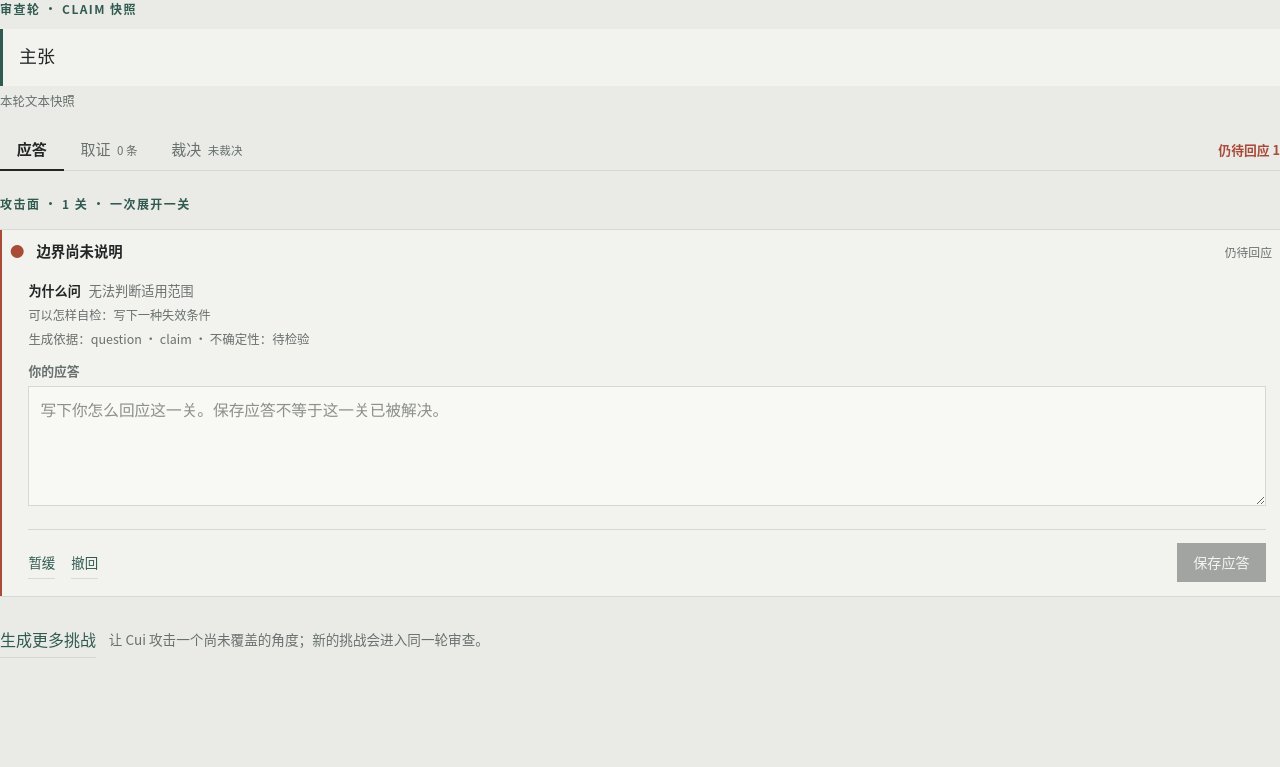
Test: ReviewRoundDesk review lifecycle › requires a revival condition for a circumstantial verdict
expect the text "边界尚未说明" is shown: met, box x1=36 y1=240 x2=123 y2=261
Click the tab "裁决 未裁决". click: point(207, 150)
box: x1=154 y1=128 x2=259 y2=171
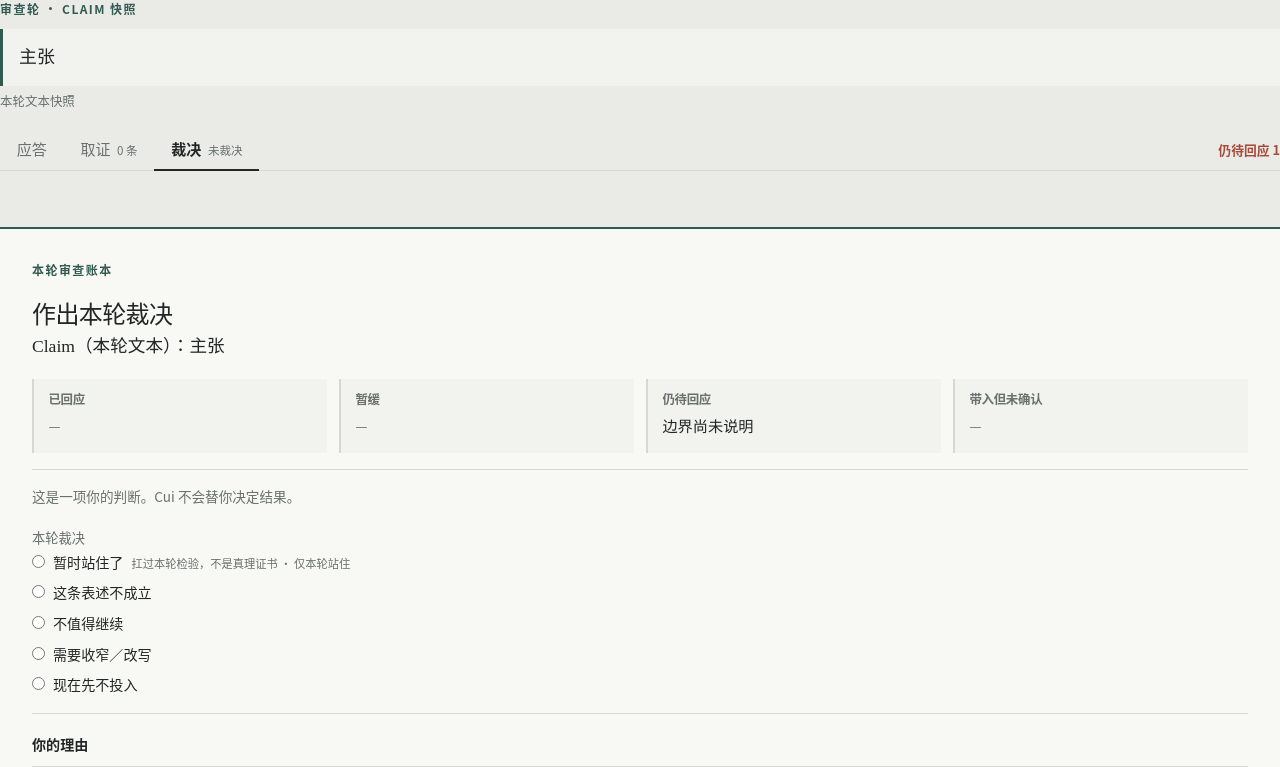
Click the radio button labelled "现在先不投入". click: point(38, 684)
box: x1=32 y1=677 x2=45 y2=690
(page scrolled)
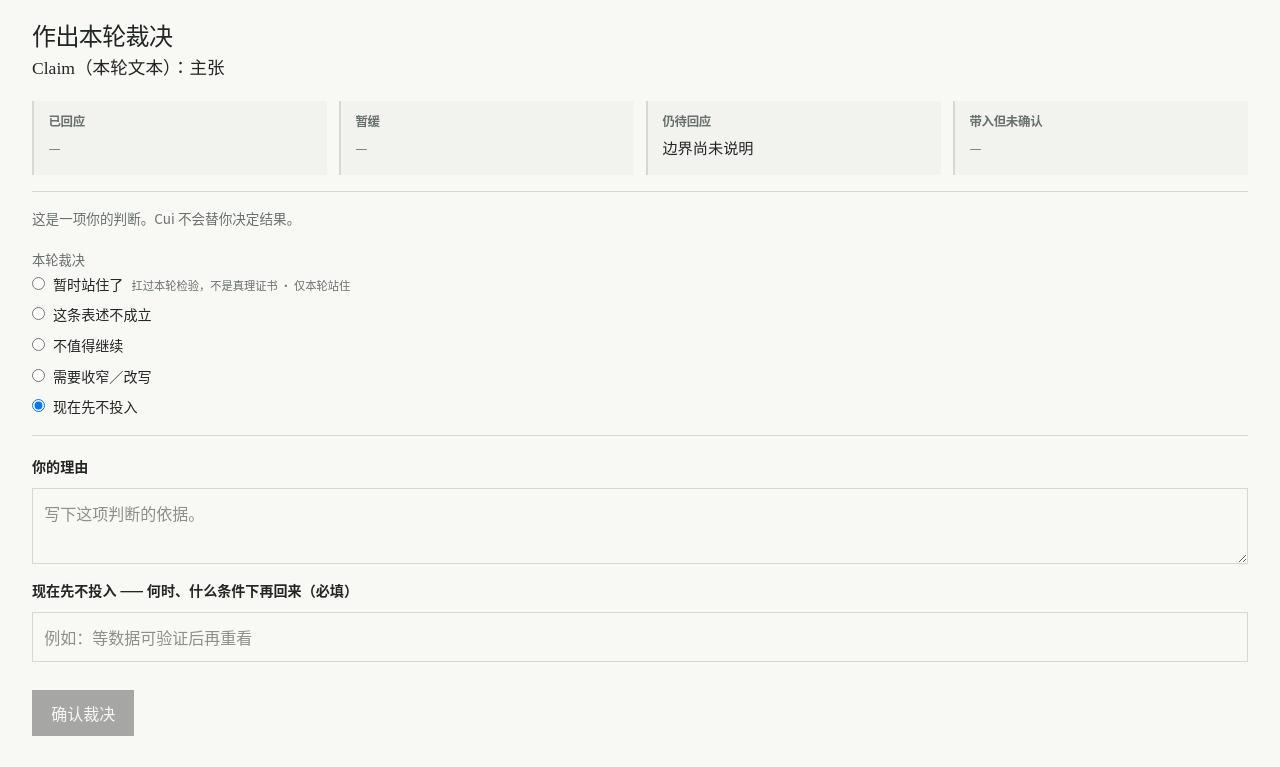
expect the button "确认裁决" is disabled: met, box x1=32 y1=690 x2=134 y2=736
Type "not now" into the text box labelled "你的理由". click: point(640, 526)
box: x1=32 y1=488 x2=1248 y2=564
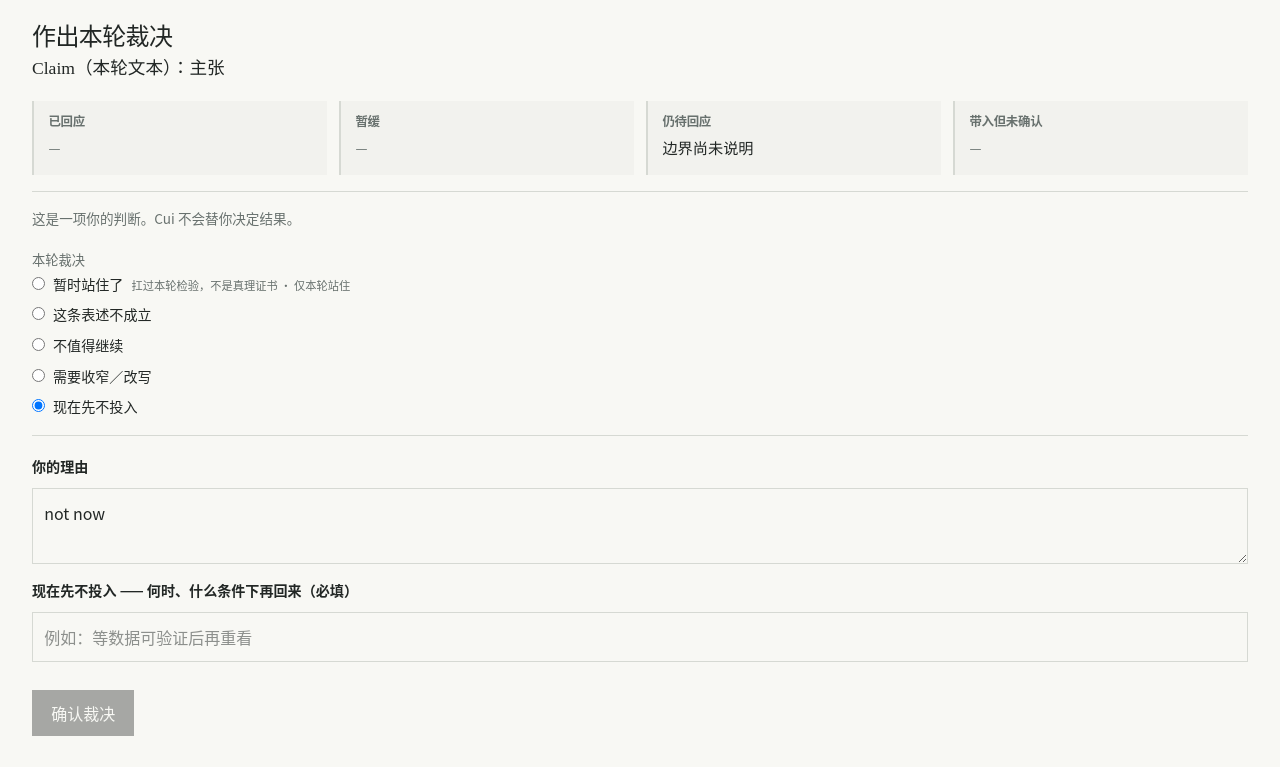
expect the button "确认裁决" is disabled: met, box x1=32 y1=690 x2=134 y2=736
Type "when measured" into the field labelled "现在先不投入 —— 何时、什么条件下再回来（必填）". click: point(640, 637)
box: x1=32 y1=612 x2=1248 y2=662
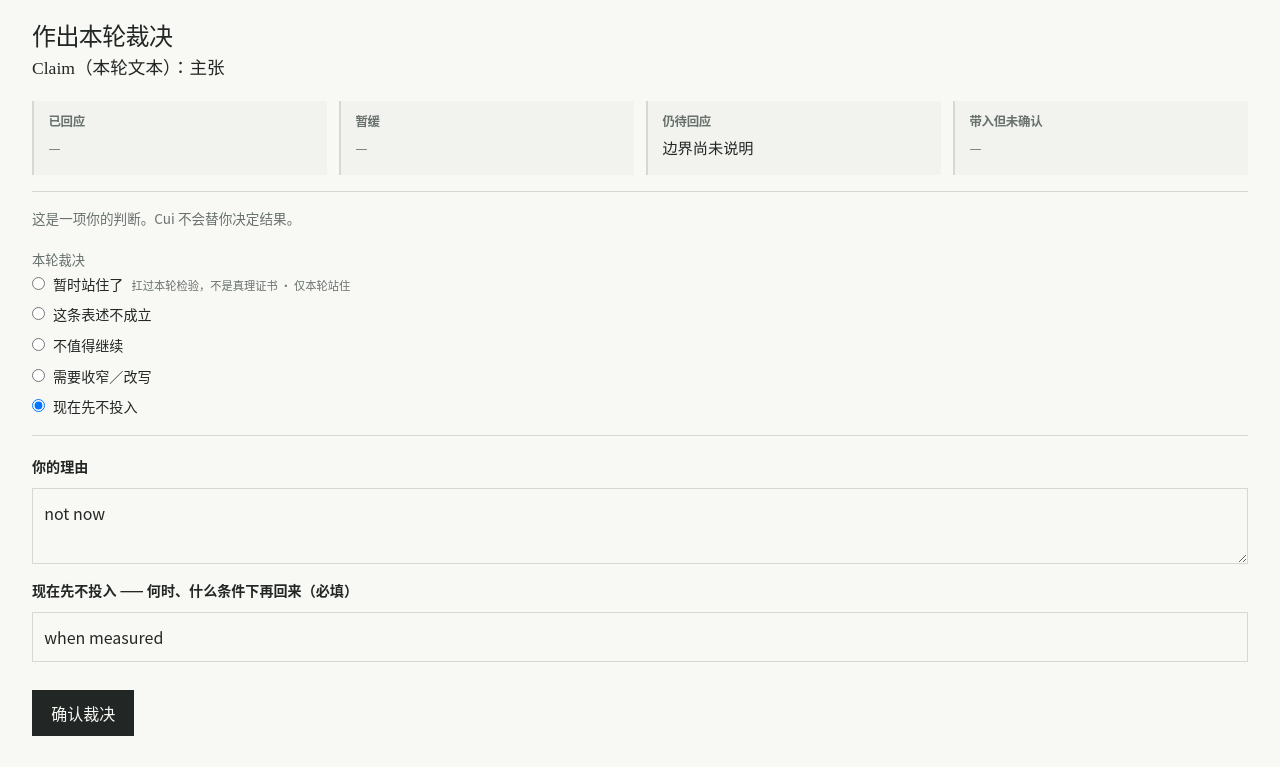
expect the button "确认裁决" is enabled: met, box x1=32 y1=690 x2=134 y2=736
